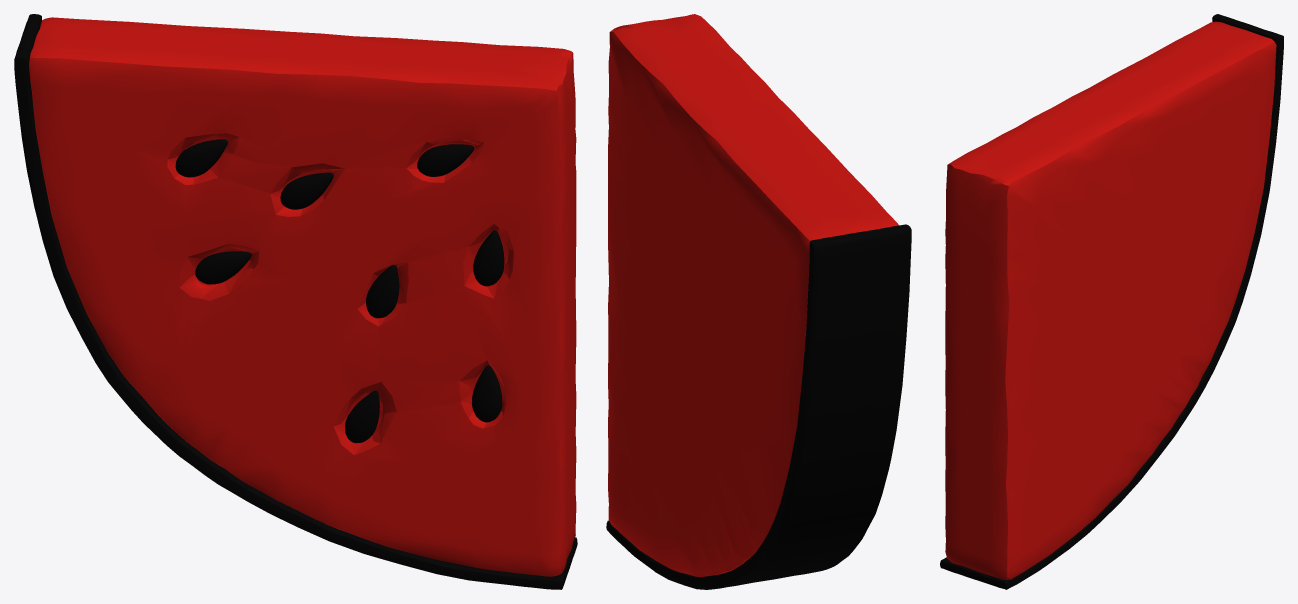
The picture shows the model from 3 angles, left to right: view 1: azimuth 30°, elevation 25°; view 2: azimuth 150°, elevation 25°; view 3: azimuth 270°, elevation 25°; orthographic projection. The views are drawn at different scales.
Parts seen in each view (by area): view 1: Fruit, Rine, Seeds_6; view 2: Fruit, Rine; view 3: Fruit, Rine.
Boxes of the visible parts, left/top/right/bottom form: Fruit: left=29, top=17, right=576, bottom=576; Rine: left=14, top=14, right=577, bottom=589; Seeds_6: left=175, top=139, right=504, bottom=443; Fruit: left=608, top=14, right=898, bottom=576; Rine: left=606, top=224, right=911, bottom=589; Fruit: left=945, top=21, right=1276, bottom=579; Rine: left=940, top=14, right=1283, bottom=589.
Size of the model in its own units: 29.31 by 24.88 by 32.45.
